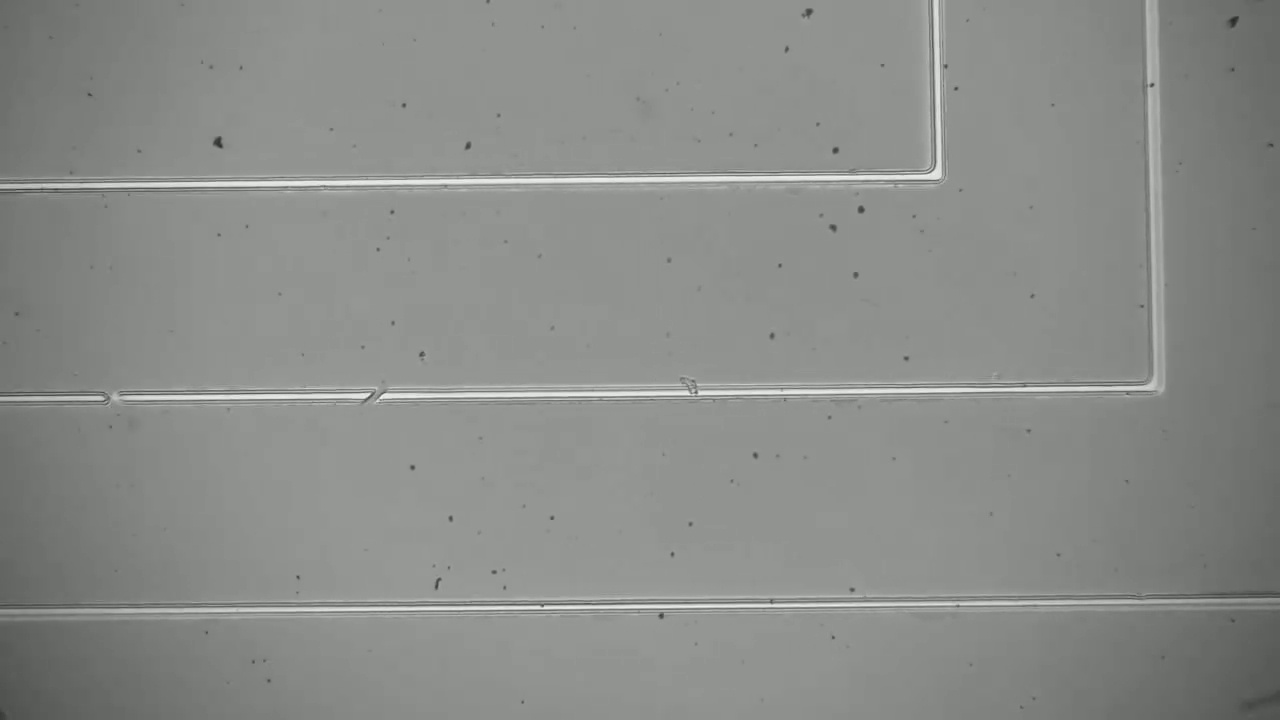open: (87, 378, 138, 420), (351, 380, 394, 413)
stains_enbedded: (668, 357, 709, 410)
